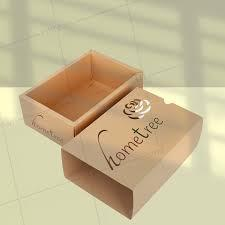box: (62, 86, 203, 218), (18, 48, 142, 154)
